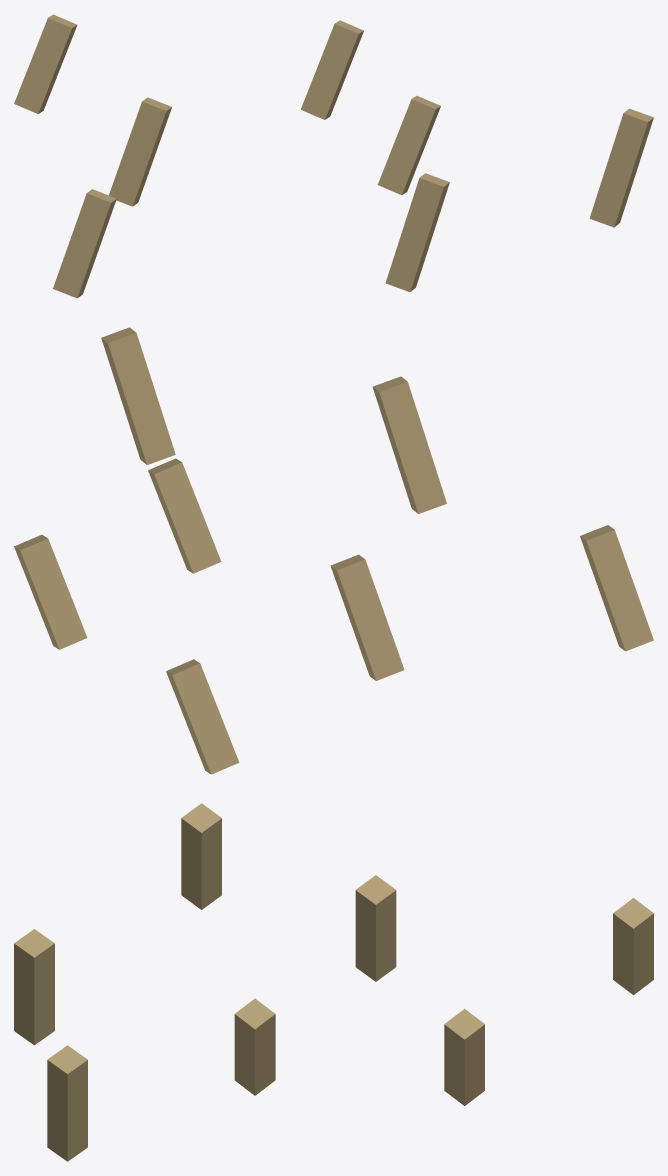
Rendered from plant_wild_millet_dormant.glb.
3 renders of one model, top to bottom at view 1: azimuth 30°, elevation 25°; view 2: azimuth 150°, elevation 25°; view 3: azimuth 270°, elevation 25°, orthographic. The views are drawn at different scales.
Visible parts, largest first — view 1: plant_wild_millet_dormant; view 2: plant_wild_millet_dormant; view 3: plant_wild_millet_dormant.
Boxes of the visible parts, x1,y1,x2,y2 form: plant_wild_millet_dormant: [14, 14, 653, 298]; plant_wild_millet_dormant: [14, 327, 653, 774]; plant_wild_millet_dormant: [14, 803, 653, 1161].
Size of the model in its own units: 0.3976 by 0.0775 by 0.3756.
